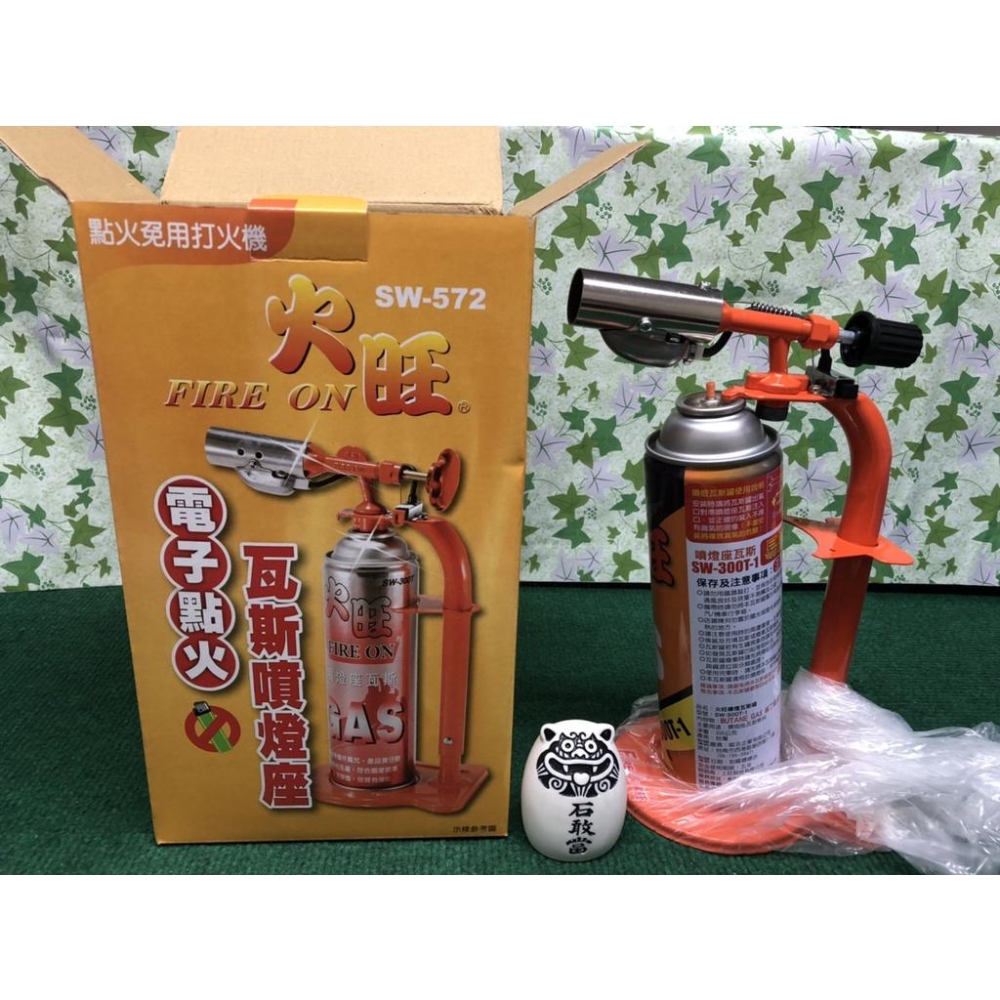gastorch: (567, 270, 930, 855), (202, 427, 490, 815)
